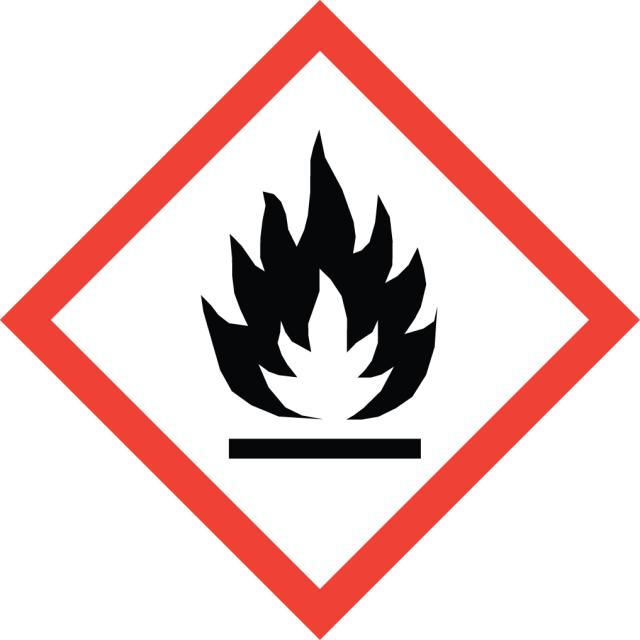flammable: (1, 1, 638, 640)
